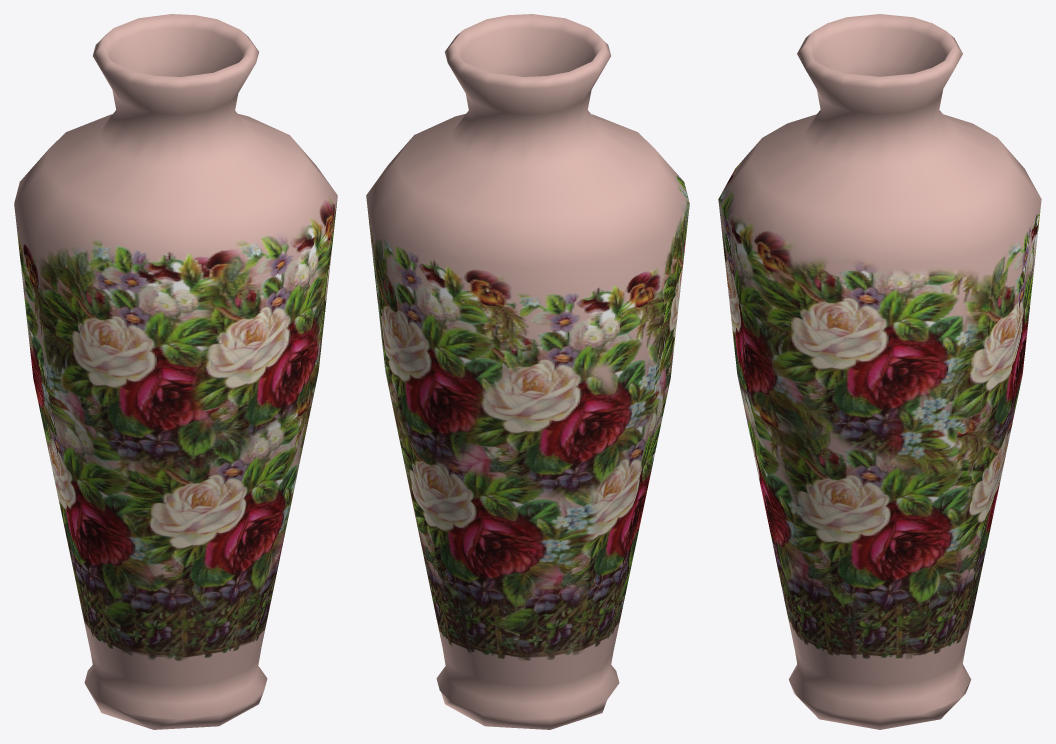
File: JVase_5_3.fbx
The picture shows the model from 3 angles, left to right: view 1: azimuth 30°, elevation 25°; view 2: azimuth 150°, elevation 25°; view 3: azimuth 270°, elevation 25°; orthographic projection.
Parts seen in each view (by area): view 1: JVase_5_3; view 2: JVase_5_3; view 3: JVase_5_3.
Boxes of the visible parts, x1=… form: JVase_5_3: x1=14, y1=14, x2=337, y2=729; JVase_5_3: x1=366, y1=14, x2=689, y2=729; JVase_5_3: x1=718, y1=14, x2=1041, y2=729.
Bounding box in the file's own units: 26.88 × 59.49 × 26.88.
